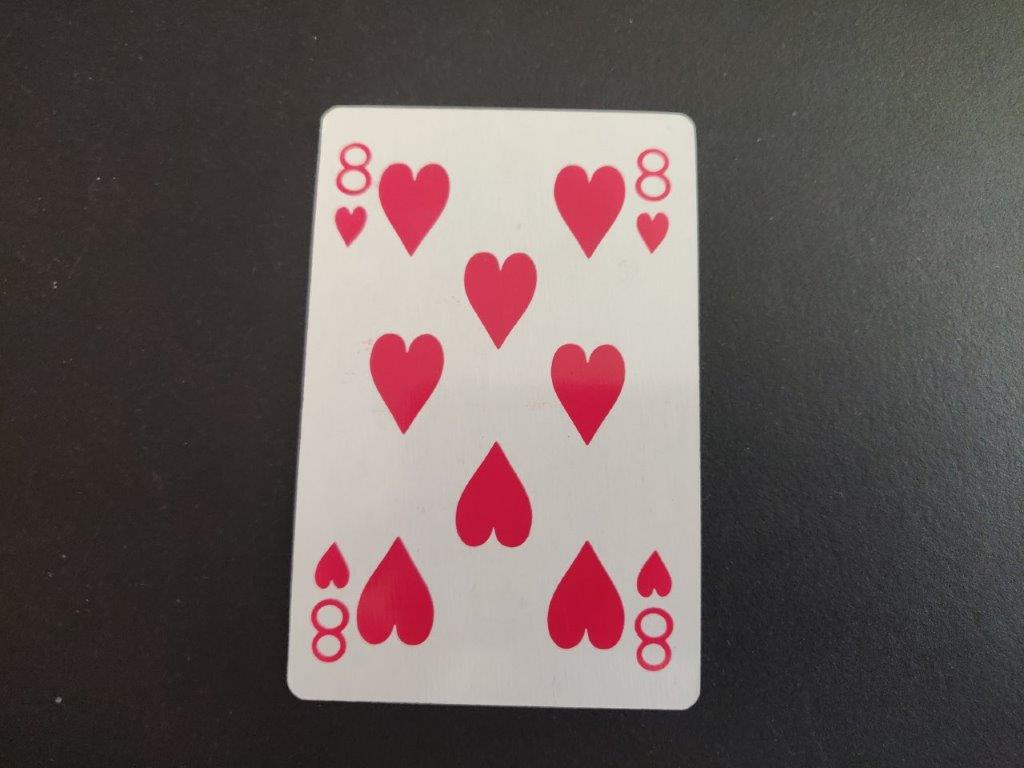8H: (330, 140, 374, 251), (632, 145, 673, 261)
